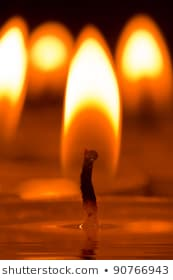Fire: (62, 30, 123, 176), (119, 18, 168, 89), (1, 17, 28, 114), (32, 24, 72, 72)
